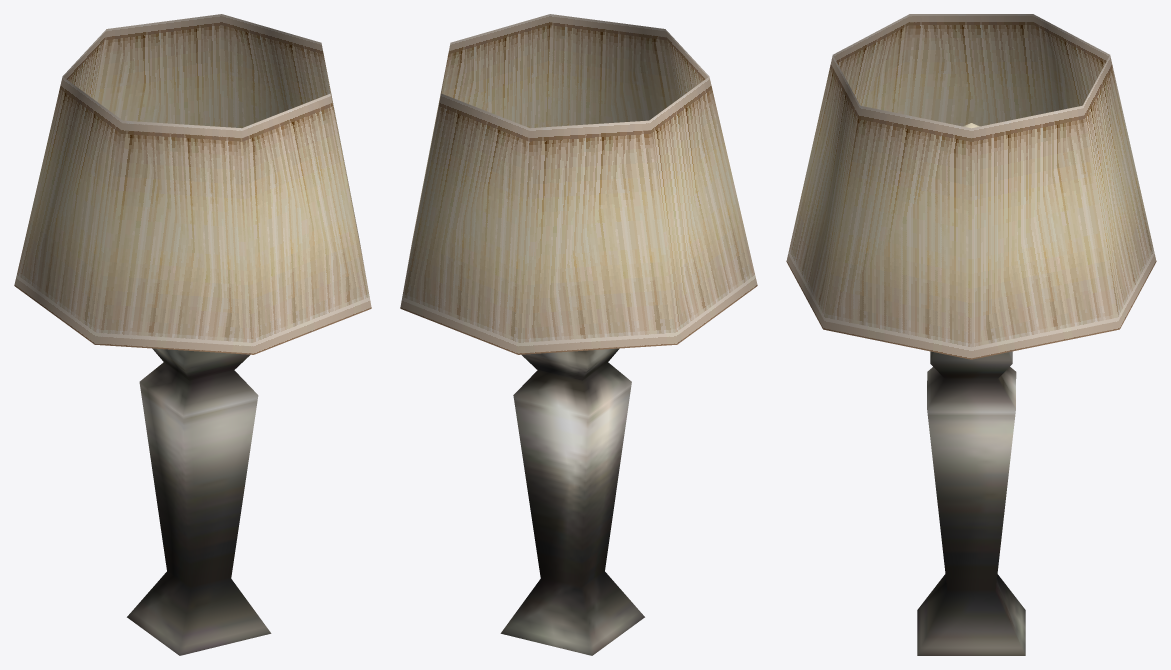
Rendered from tablelamp.fbx.
3 renders of one model, left to right at view 1: azimuth 30°, elevation 25°; view 2: azimuth 150°, elevation 25°; view 3: azimuth 270°, elevation 25°, orthographic. The views are drawn at different scales.
Visible parts, largest first — view 1: mesh_1, mesh_0; view 2: mesh_1, mesh_0; view 3: mesh_1, mesh_0.
Boxes of the visible parts, bbox=[...] form: mesh_1: bbox=[14, 14, 371, 354]; mesh_0: bbox=[127, 348, 271, 655]; mesh_1: bbox=[400, 14, 757, 354]; mesh_0: bbox=[500, 348, 644, 655]; mesh_1: bbox=[786, 14, 1156, 359]; mesh_0: bbox=[917, 351, 1025, 655].
Bounding box in the file's own units: 42.43 × 73.42 × 43.52.
2 materials, 2 textured.
